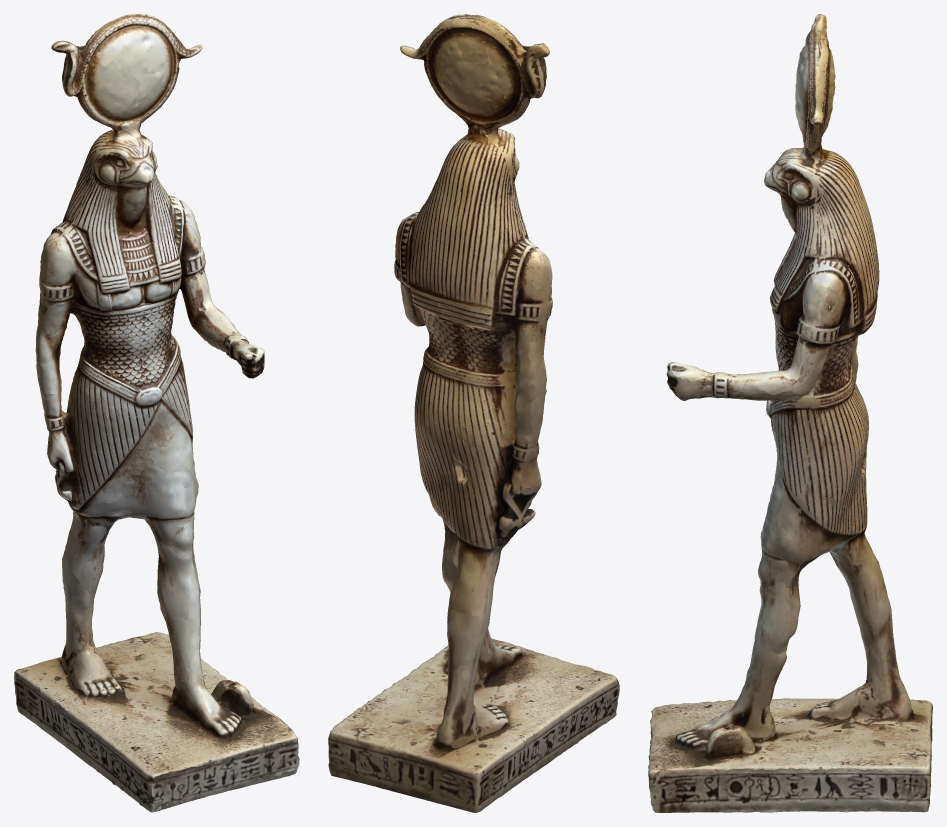
Rendered from statue_of_ra.glb.
3 views of the same model, side by side, from view 1: azimuth 30°, elevation 25°; view 2: azimuth 150°, elevation 25°; view 3: azimuth 270°, elevation 25° (orthographic). The views are drawn at different scales.
Parts seen in each view (by area): view 1: Ra_0; view 2: Ra_0; view 3: Ra_0.
Boxes of the visible parts, x1=… form: Ra_0: x1=14, y1=14, x2=299, y2=812; Ra_0: x1=328, y1=14, x2=619, y2=812; Ra_0: x1=648, y1=14, x2=932, y2=812.
Bounding box in the file's own units: 0.1098 × 0.45 × 0.1575.
3 materials, 1 textured.
